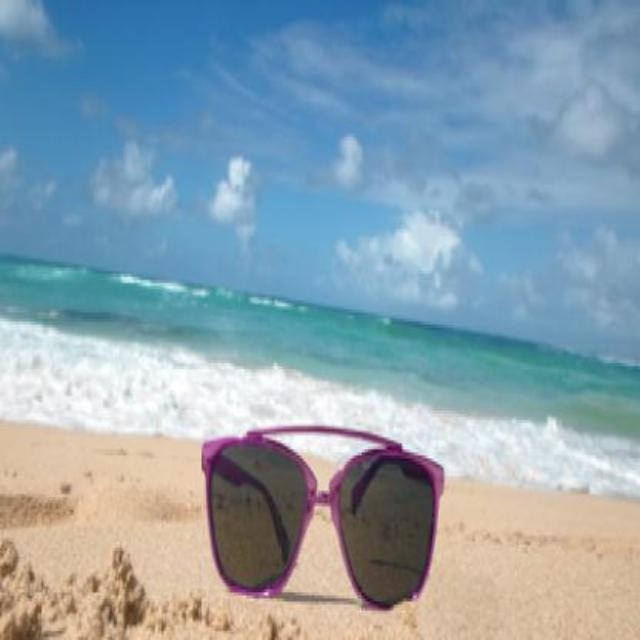sunglasses: (199, 420, 445, 610)
